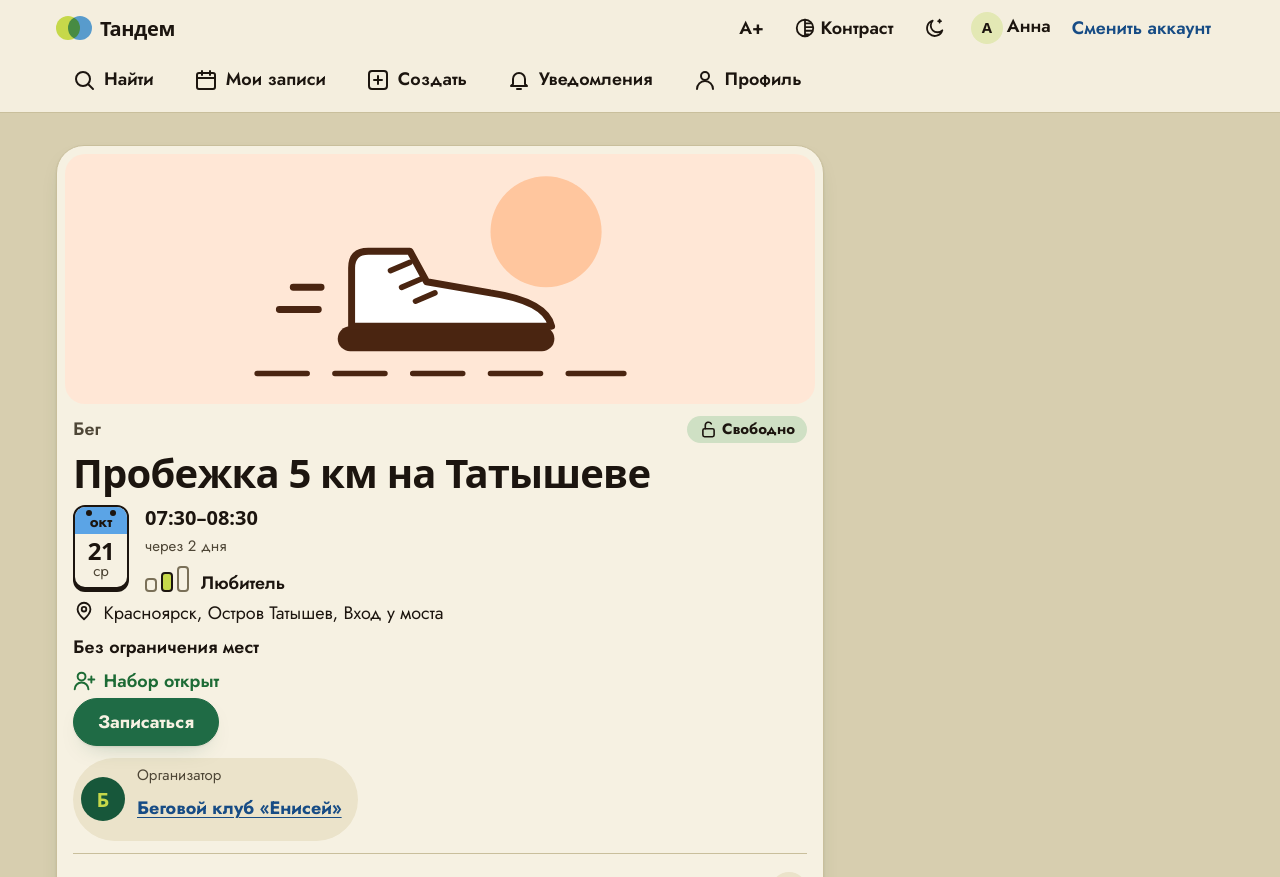
it: карточка мероприятия › отказ с ошибкой поля — текст поля, а не «Проверьте поля формы»
Click the button "Записаться" at {"x": 146, "y": 722}, box [73, 698, 219, 746]
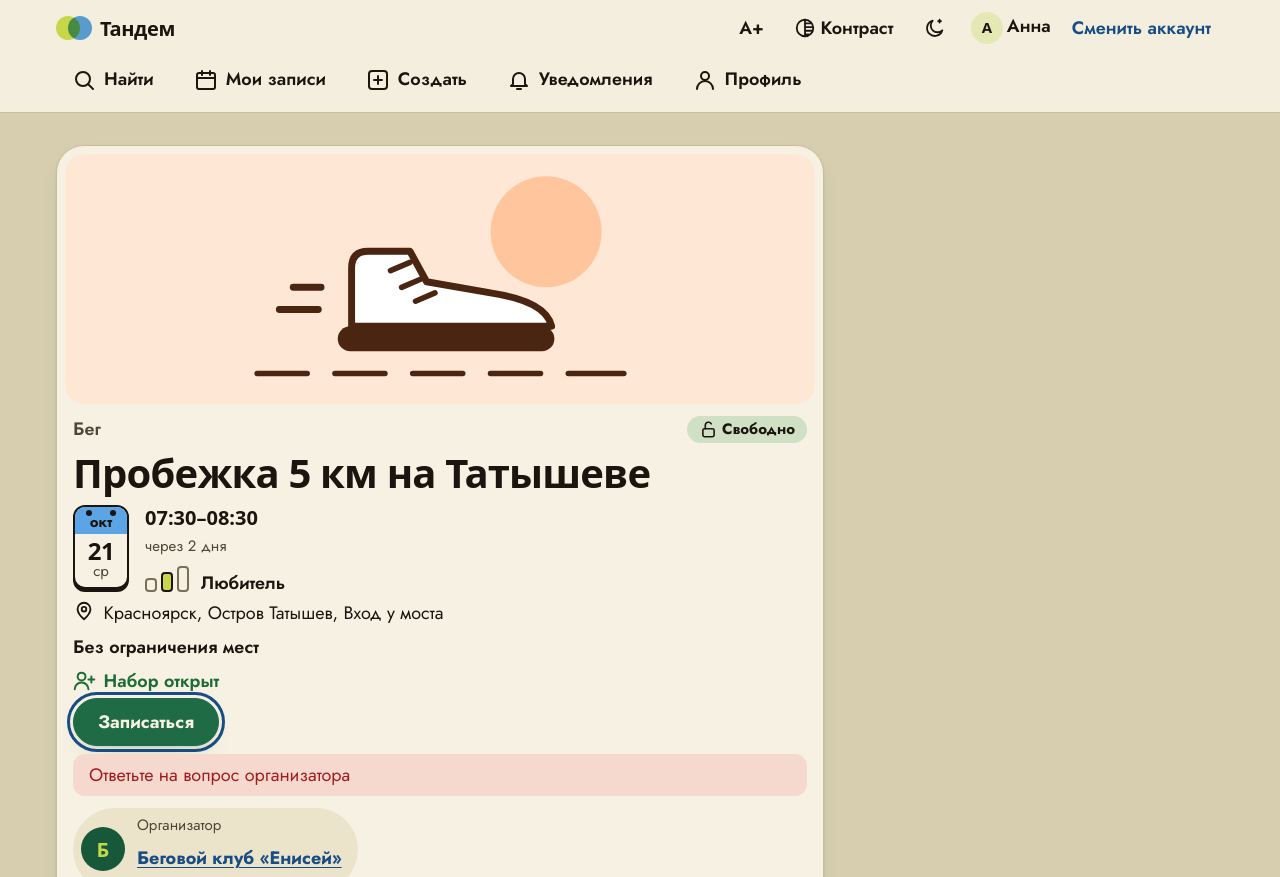
expect the message reads "Ответьте на вопрос организатора": met, box [89, 762, 350, 788]
